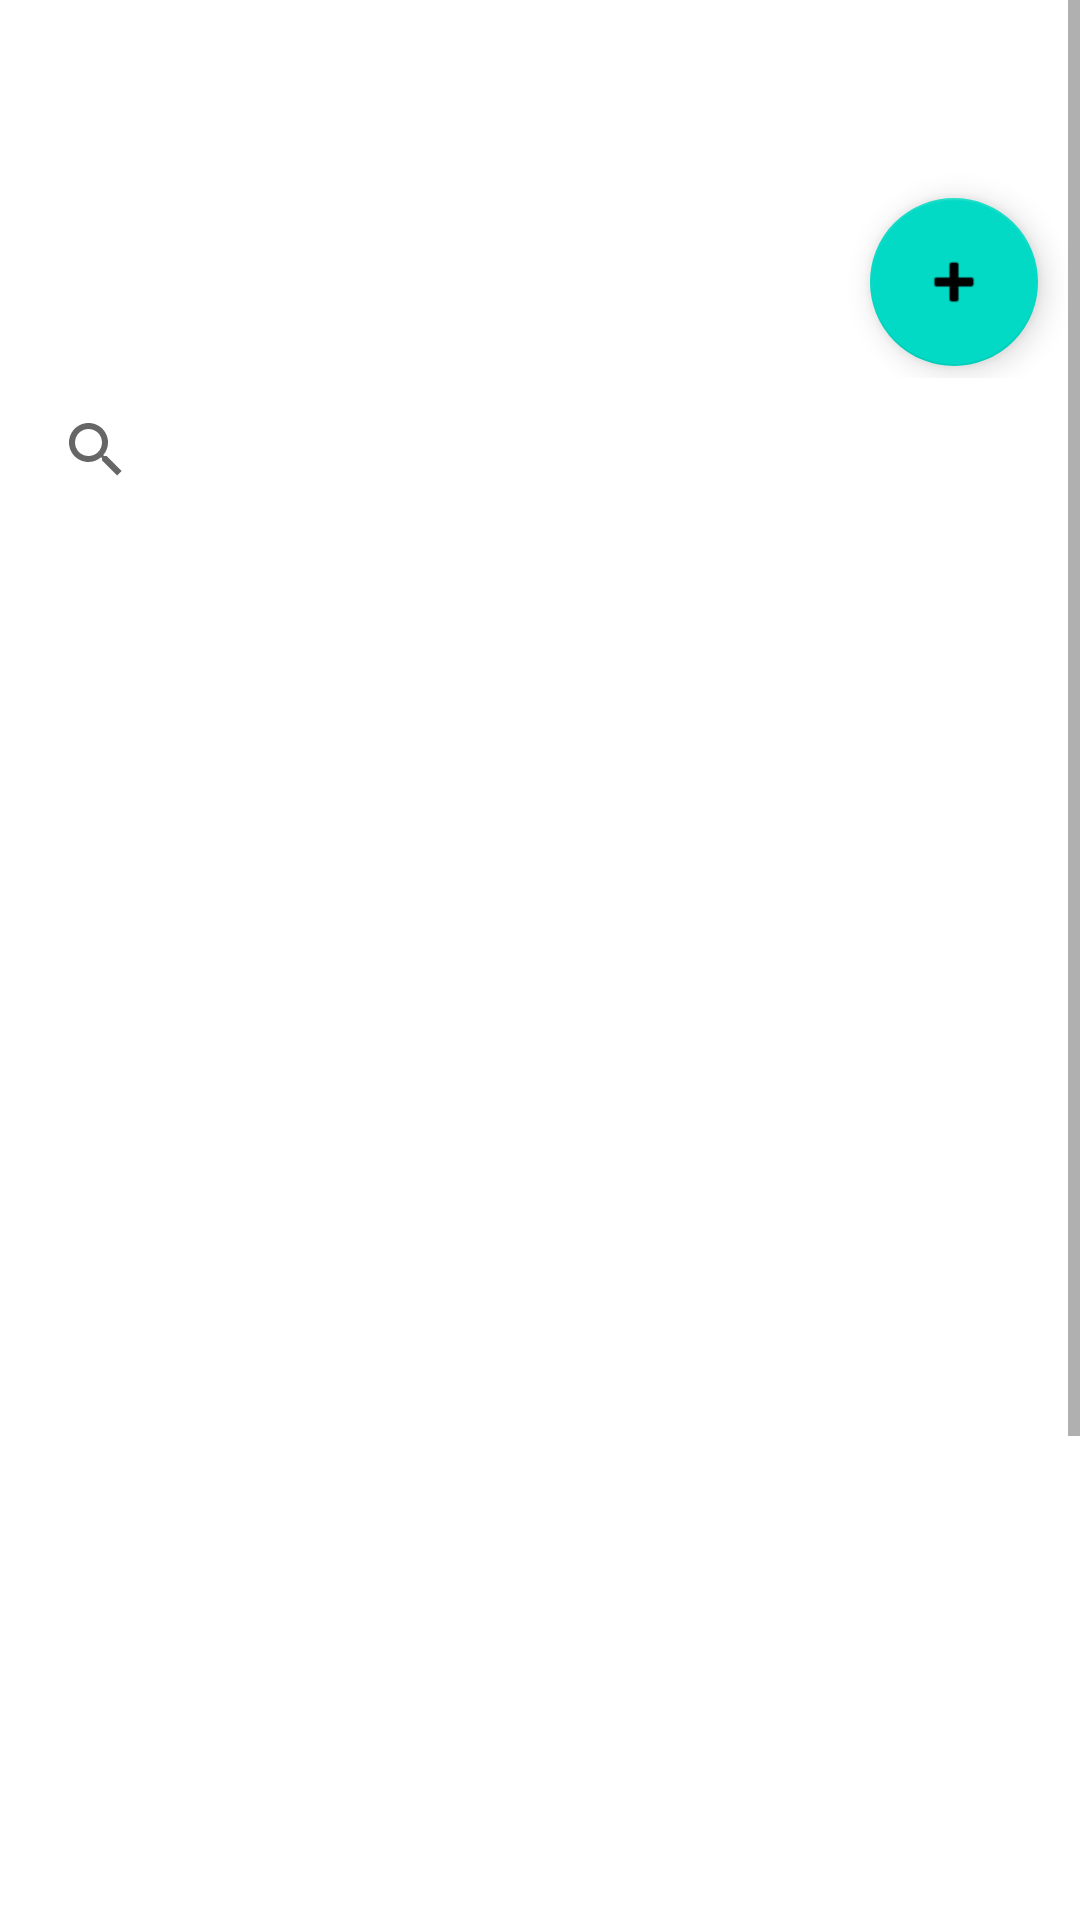

Screen size 1080px×1920px. Icon name, then its center in pixels as (x=x, y=y):
add: (x=954, y=282)
